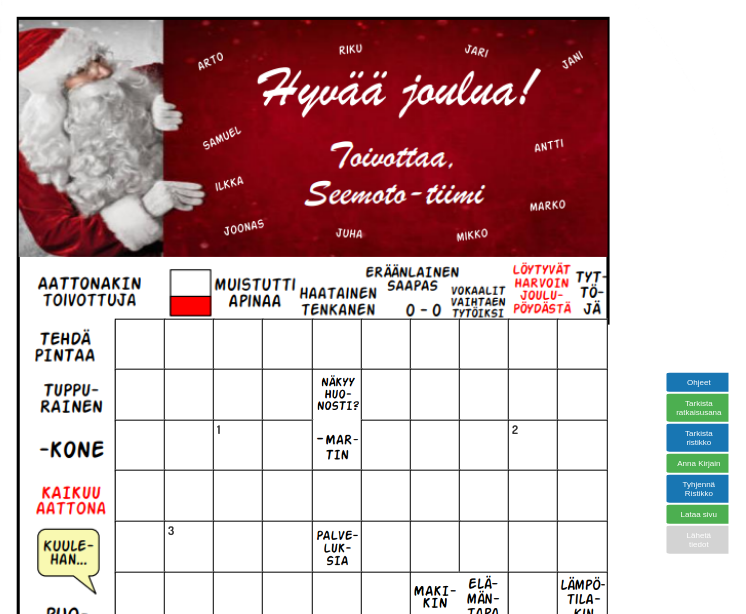
Scenario: CrosswordGrid Component Tests › allows keyboard input to update the grid
// Adjusted to use the correct selector
Click the element with test id "grid-item-" at (141, 346), box x1=115 y1=319 x2=166 y2=372
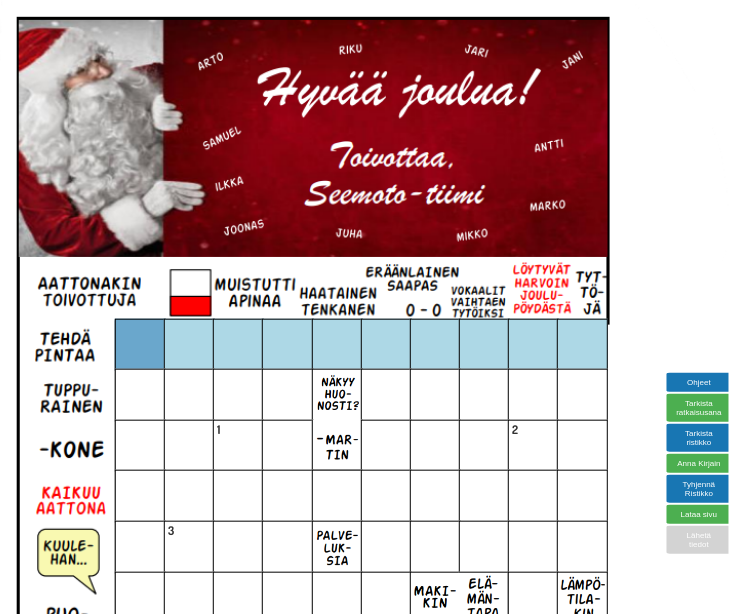
Press A
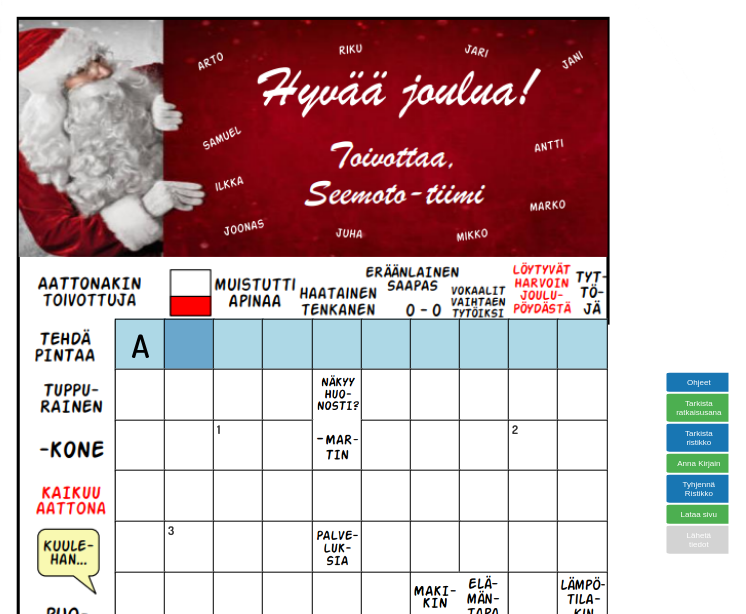
Check: the text with test id "grid-item-" reads "A", box x1=131 y1=324 x2=149 y2=365
